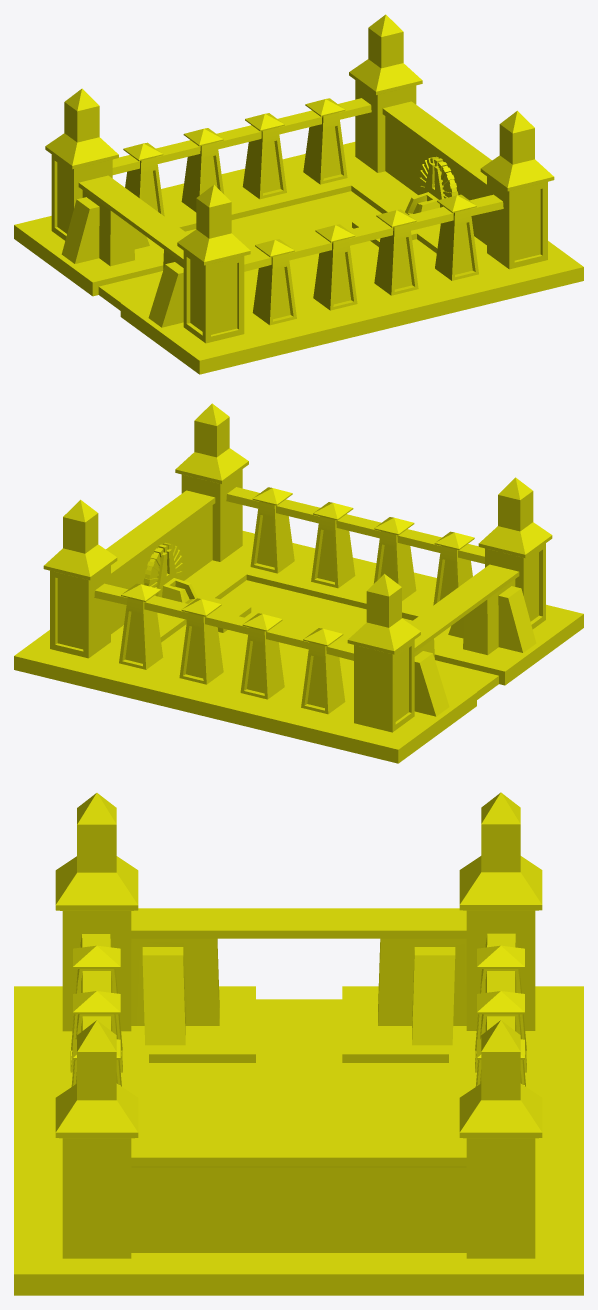
File: tron.fbx
The picture shows the model from 3 angles, top to bottom: view 1: azimuth 30°, elevation 25°; view 2: azimuth 150°, elevation 25°; view 3: azimuth 270°, elevation 25°; orthographic projection. The views are drawn at different scales.
Visible parts, largest first — view 1: wall2; view 2: wall2; view 3: wall2.
Part boxes in pixels (x1,y1,x2,y2): wall2: [14, 14, 583, 374]; wall2: [14, 403, 583, 763]; wall2: [14, 792, 583, 1295].
Bounding box in the file's own units: 28.88 × 11.5 × 24.15.
